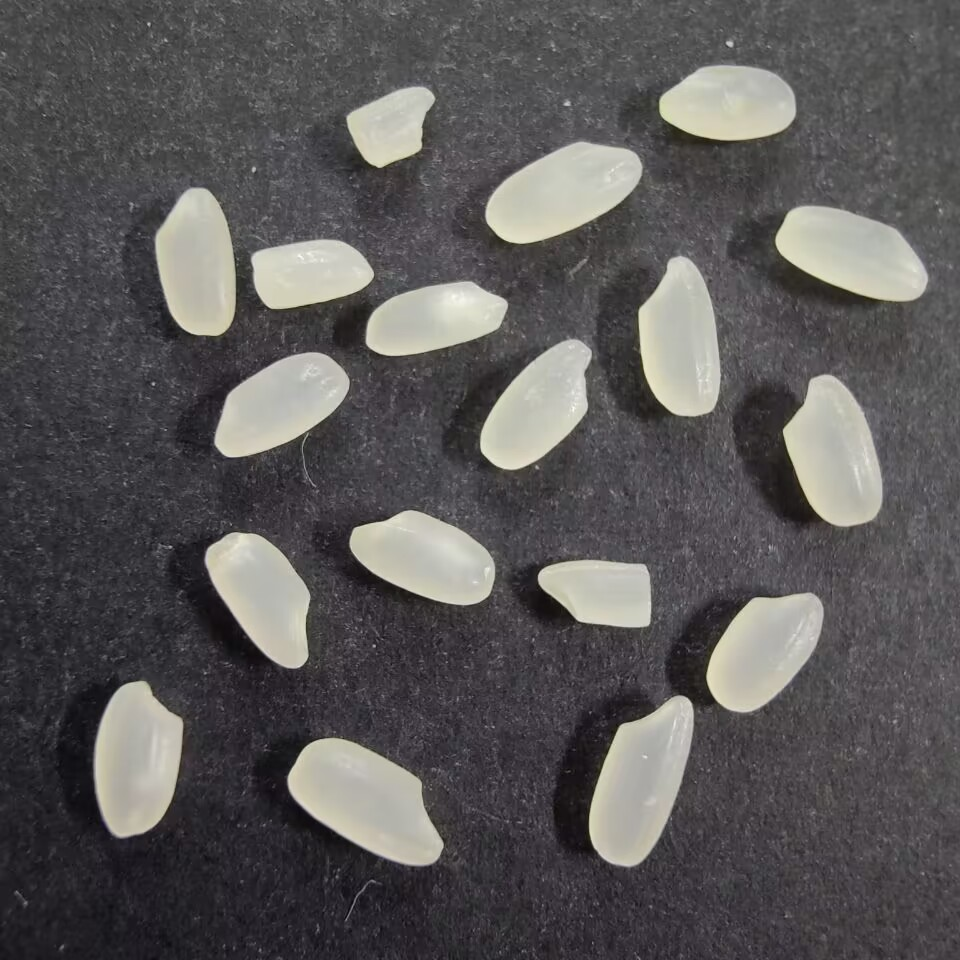broken: (248, 236, 376, 312), (534, 555, 653, 633), (343, 85, 436, 170)
rice: (284, 737, 447, 870), (584, 691, 693, 870), (482, 138, 644, 246), (778, 372, 885, 530), (771, 202, 933, 304), (478, 337, 596, 473), (202, 530, 316, 670), (92, 677, 189, 840), (210, 349, 351, 459), (343, 508, 499, 607), (704, 590, 825, 712), (633, 253, 722, 418), (152, 184, 240, 341), (655, 60, 800, 143), (360, 277, 508, 358)
